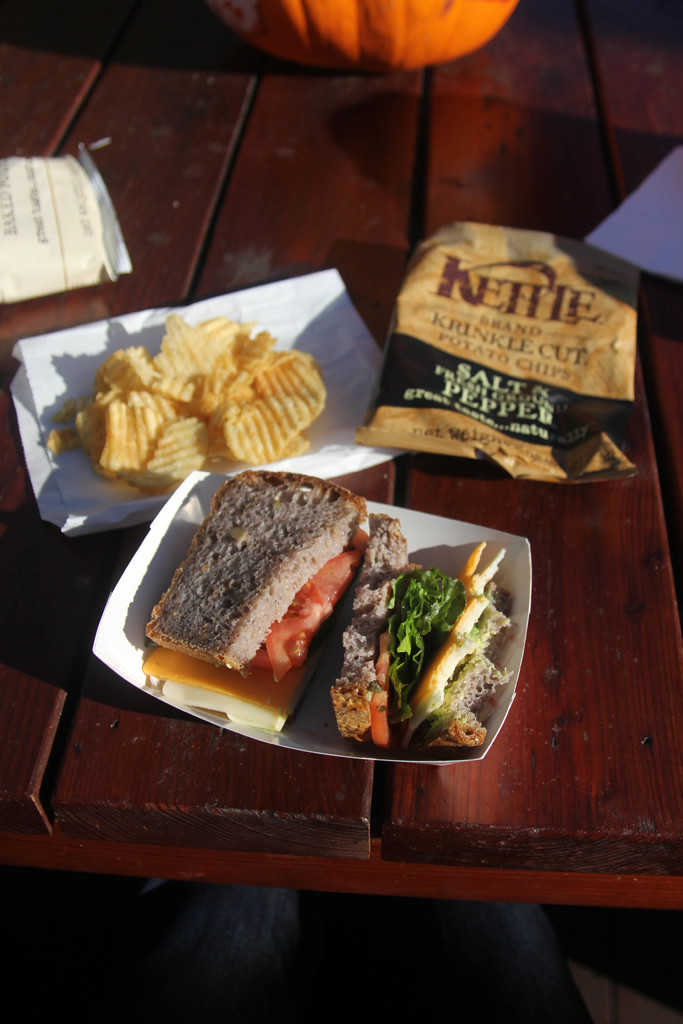sandwich: (140, 470, 377, 732), (338, 512, 522, 750)
